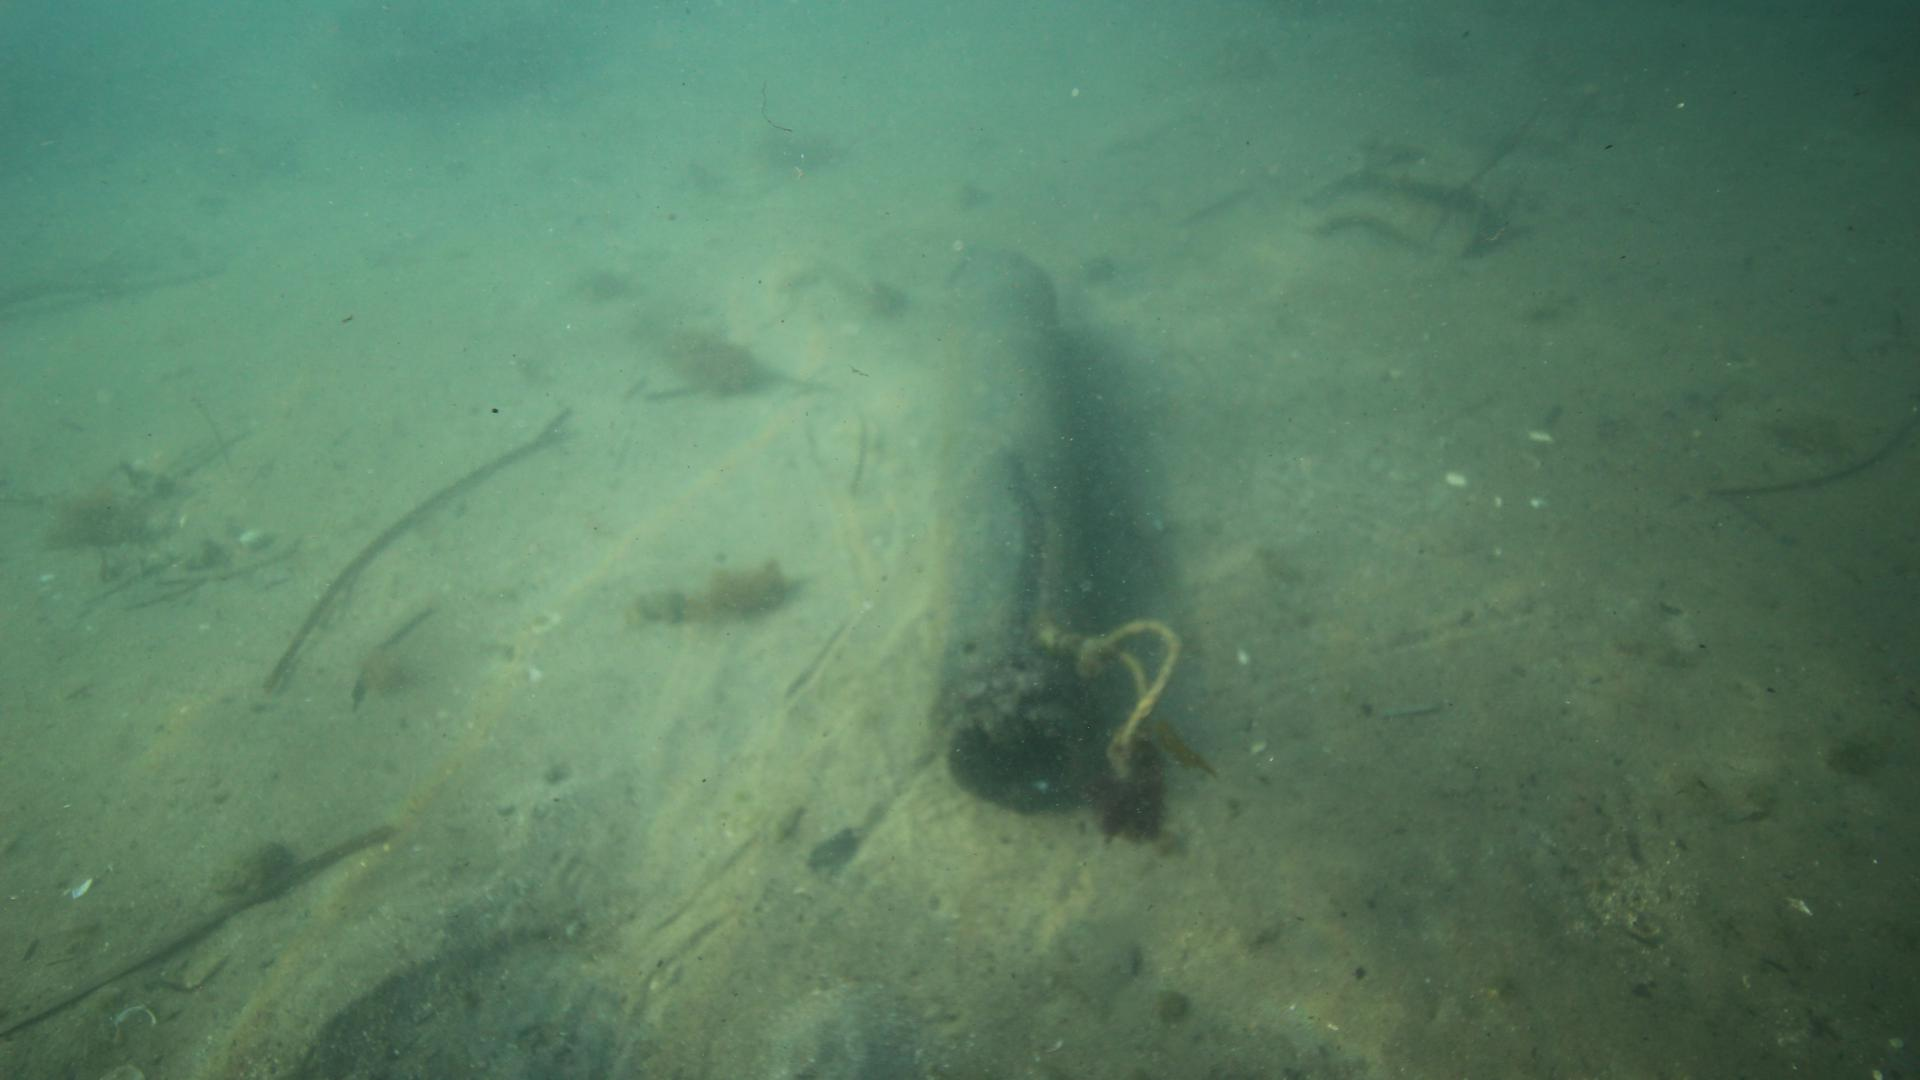bundle of ropes: (1071, 611, 1185, 781)
eel fish trap: (932, 247, 1102, 808)
